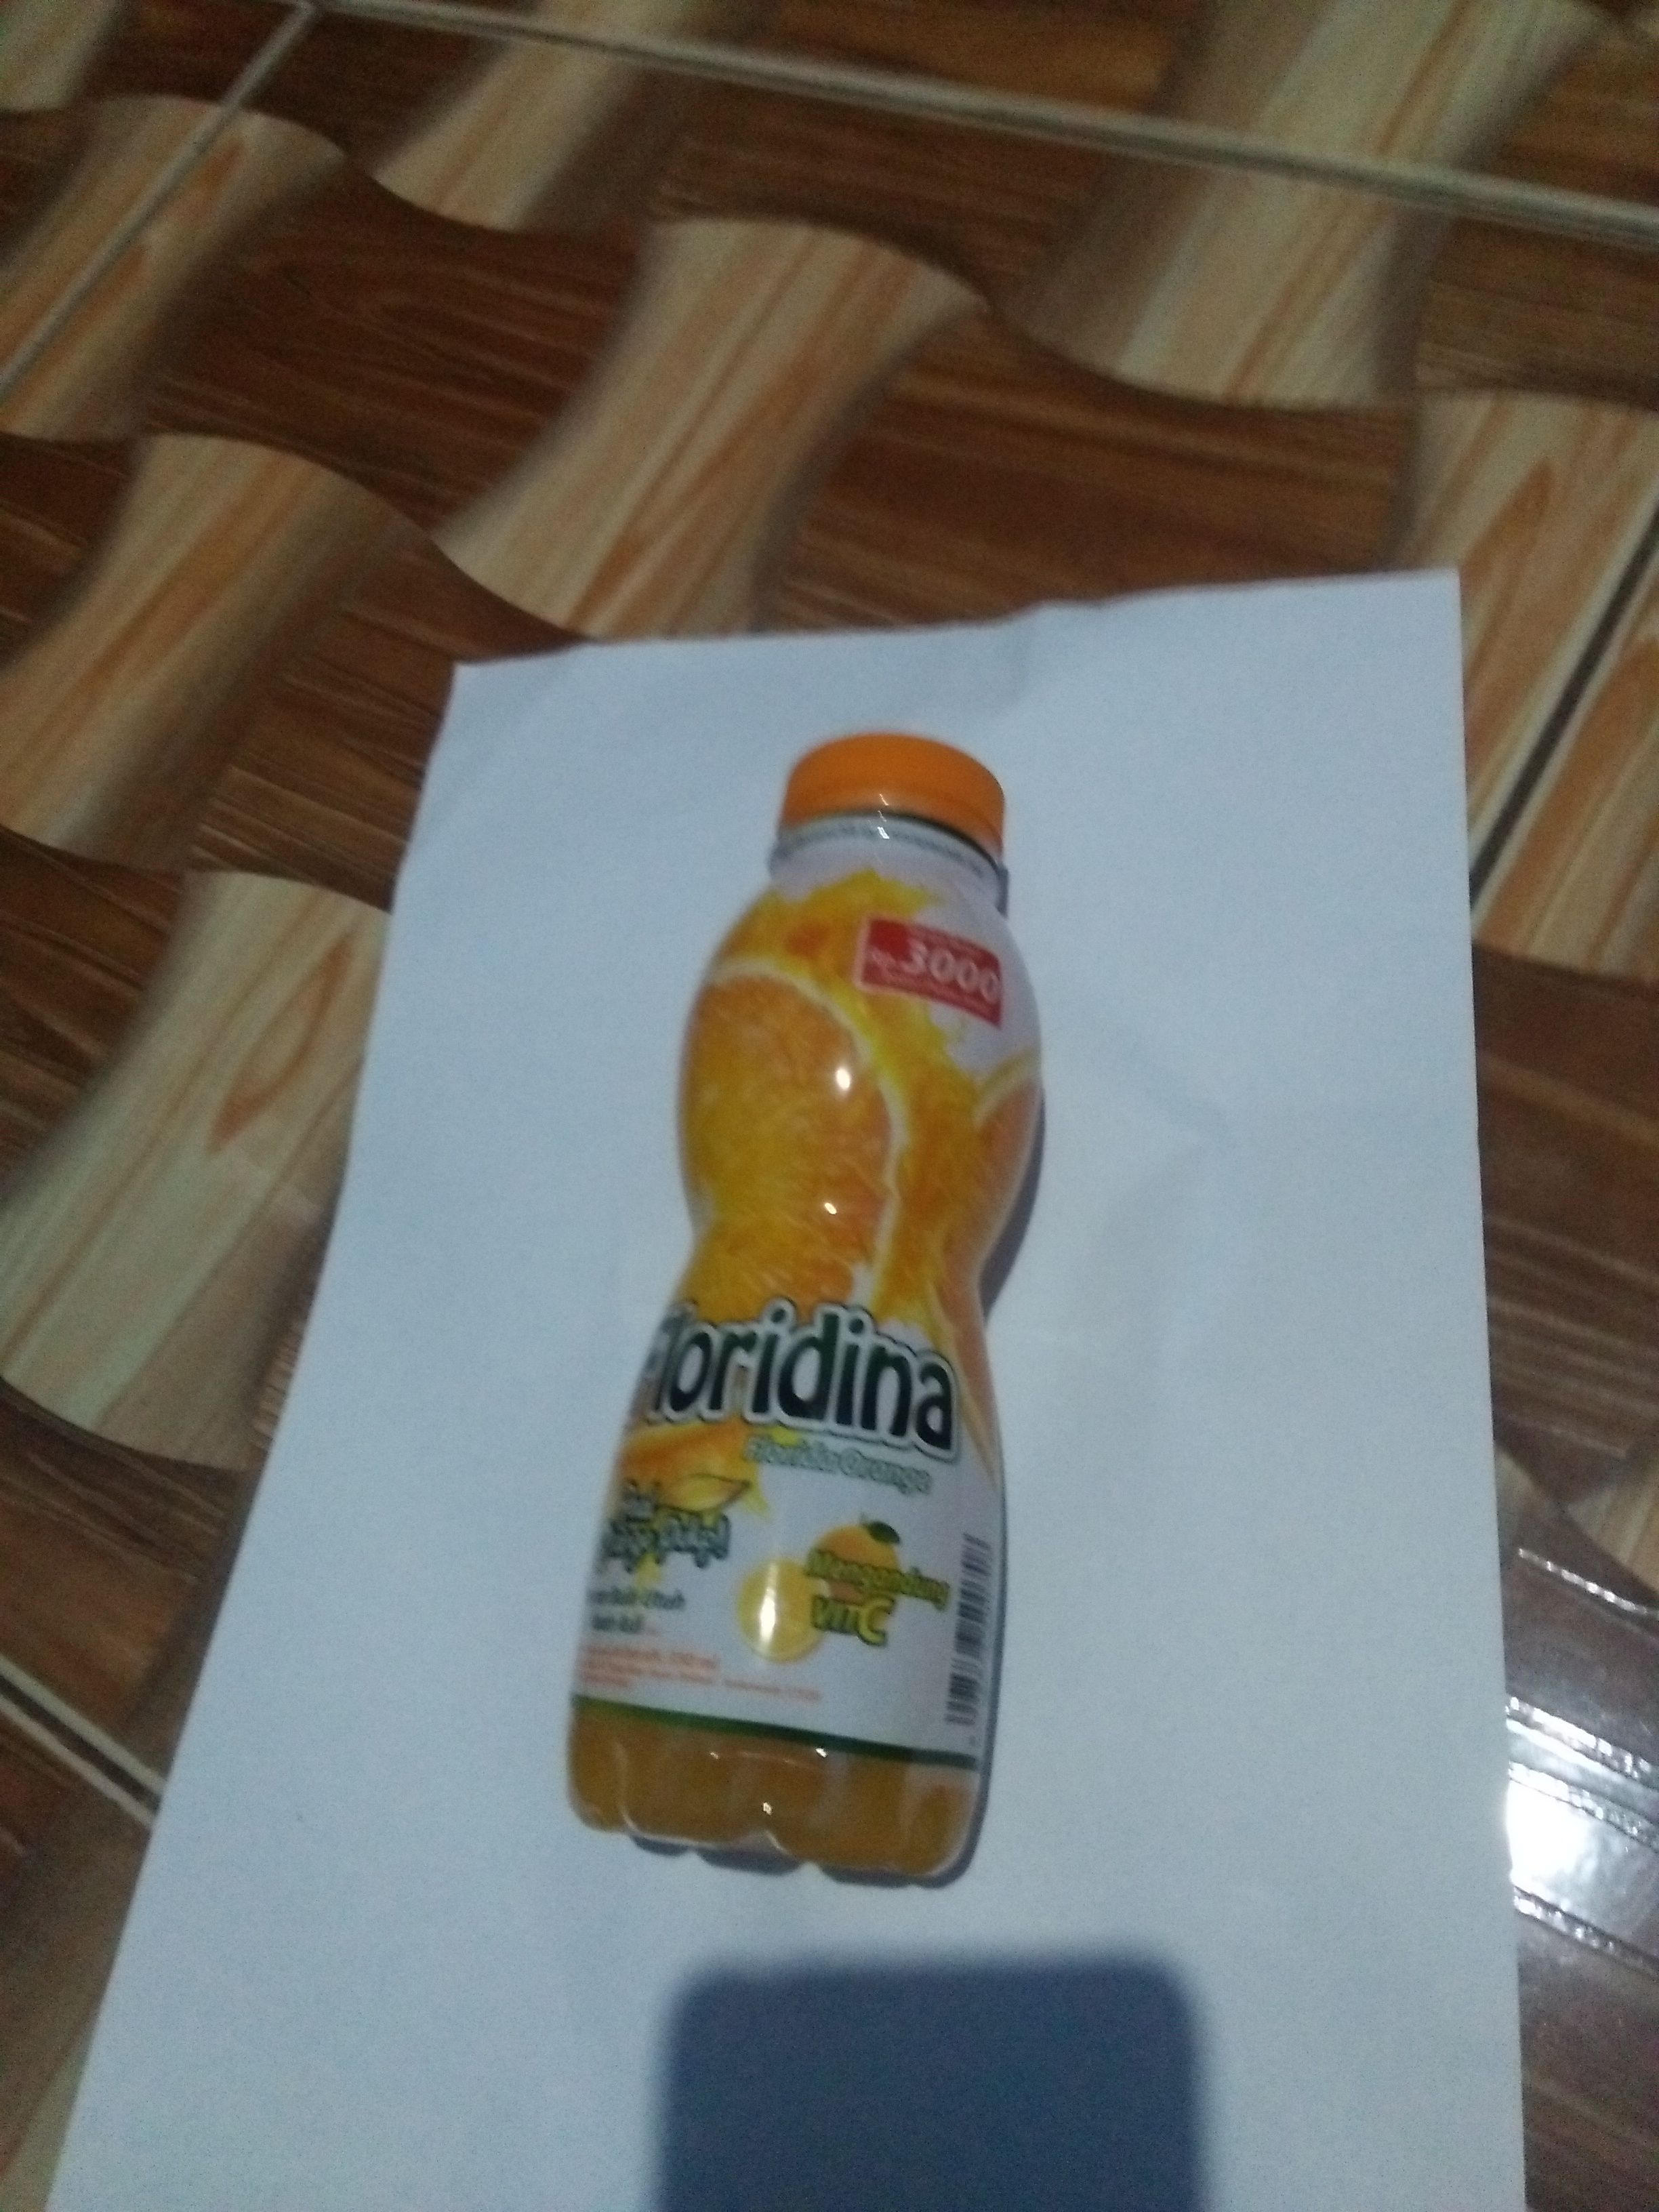Floridina: (563, 725, 1066, 1928)
